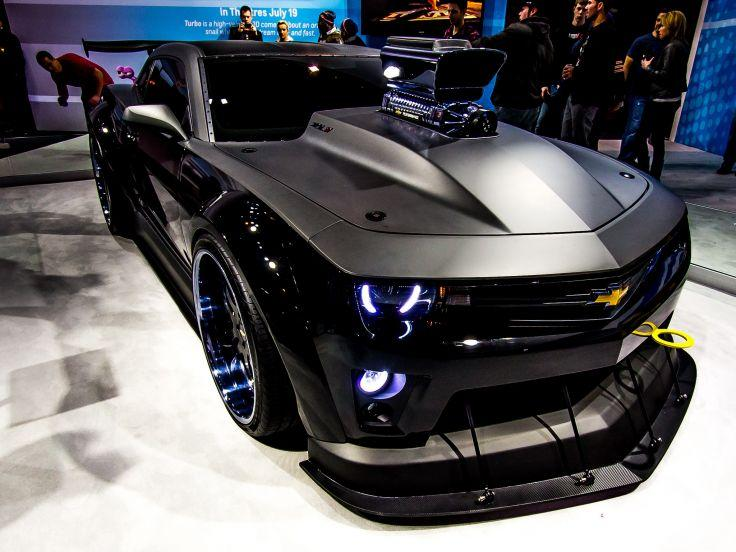Carro: (77, 29, 705, 515)
